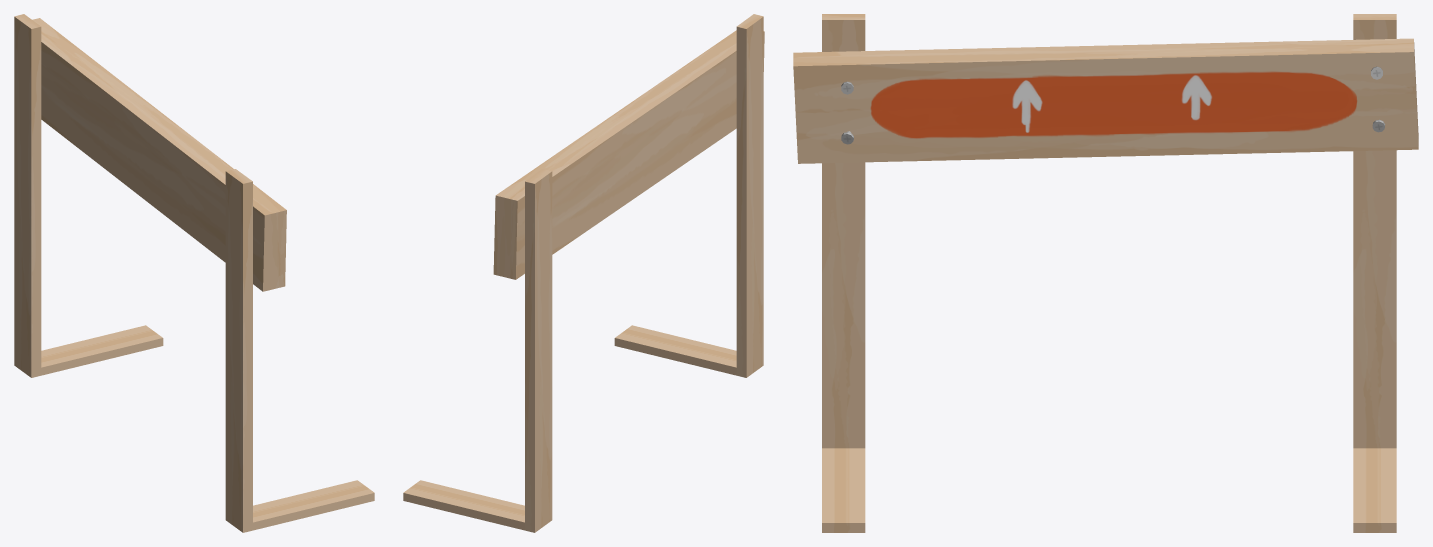
Rendered from Hurdle_02.fbx.
3 views of the same model, side by side, from view 1: azimuth 30°, elevation 25°; view 2: azimuth 150°, elevation 25°; view 3: azimuth 270°, elevation 25° (orthographic). The views are drawn at different scales.
Visible parts, largest first — view 1: polySurface11; view 2: polySurface11; view 3: polySurface11.
Part boxes in pixels (x1,y1,x2,y2): polySurface11: (14, 14, 374, 532); polySurface11: (403, 14, 764, 532); polySurface11: (793, 14, 1418, 532).
Bounding box in the file's own units: 1.72 × 4.36 × 5.63.
1 material, 1 textured.
